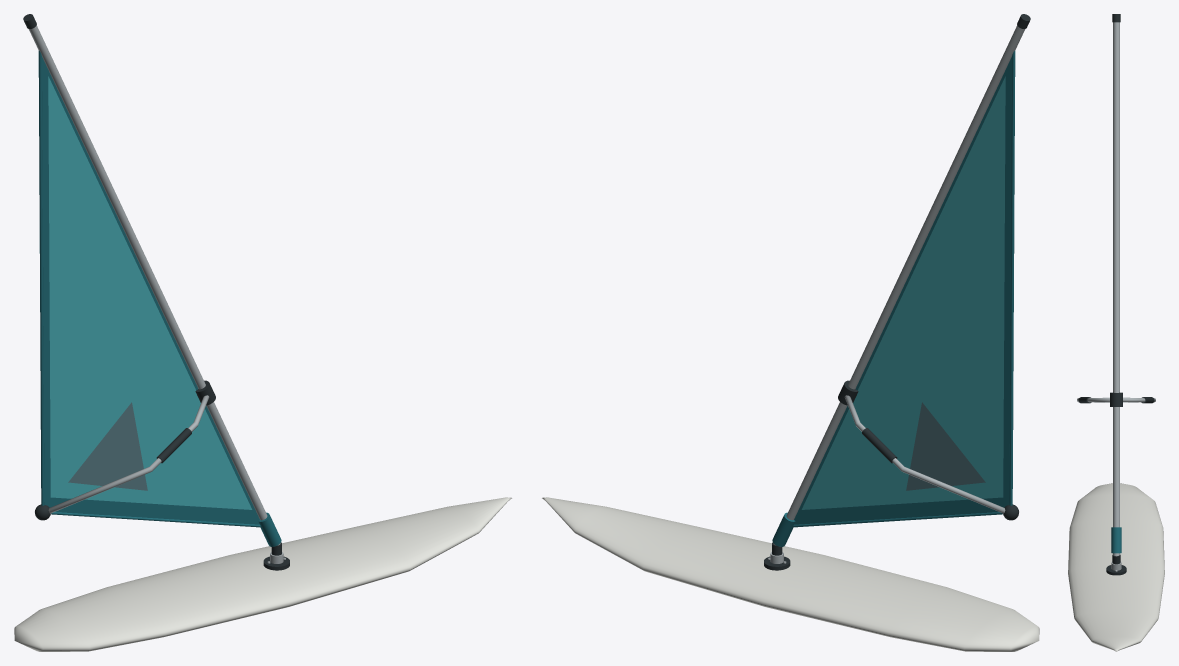
The picture shows the model from 3 angles, left to right: view 1: azimuth 30°, elevation 25°; view 2: azimuth 150°, elevation 25°; view 3: azimuth 270°, elevation 25°; orthographic projection. The views are drawn at different scales.
Parts seen in each view (by area): view 1: Closed thickness partitioned sail and opaque window, Original closed rocker windsurf board, Long diagonal mast, Sail perimeter bead 0, Original bowed boom arm -1; view 2: Closed thickness partitioned sail and opaque window, Original closed rocker windsurf board, Long diagonal mast, Sail perimeter bead 0, Original bowed boom arm 1; view 3: Original closed rocker windsurf board, Long diagonal mast, Lower mast retaining sleeve, Boom mast attachment collar.
Boxes of the visible parts, x1,y1,x2,y2 form: Closed thickness partitioned sail and opaque window: [42, 57, 259, 524]; Original closed rocker windsurf board: [14, 497, 511, 651]; Long diagonal mast: [28, 25, 280, 545]; Sail perimeter bead 0: [38, 50, 44, 505]; Original bowed boom arm -1: [48, 395, 209, 513]; Closed thickness partitioned sail and opaque window: [794, 57, 1011, 524]; Original closed rocker windsurf board: [542, 497, 1039, 651]; Long diagonal mast: [773, 25, 1025, 545]; Sail perimeter bead 0: [1009, 50, 1015, 505]; Original bowed boom arm 1: [844, 395, 1005, 513]; Original closed rocker windsurf board: [1068, 483, 1164, 651]; Long diagonal mast: [1113, 22, 1119, 556]; Lower mast retaining sleeve: [1111, 527, 1121, 553]; Boom mast attachment collar: [1110, 392, 1122, 406].
Size of the model in its own units: 2.81 by 3.42 by 0.62.
